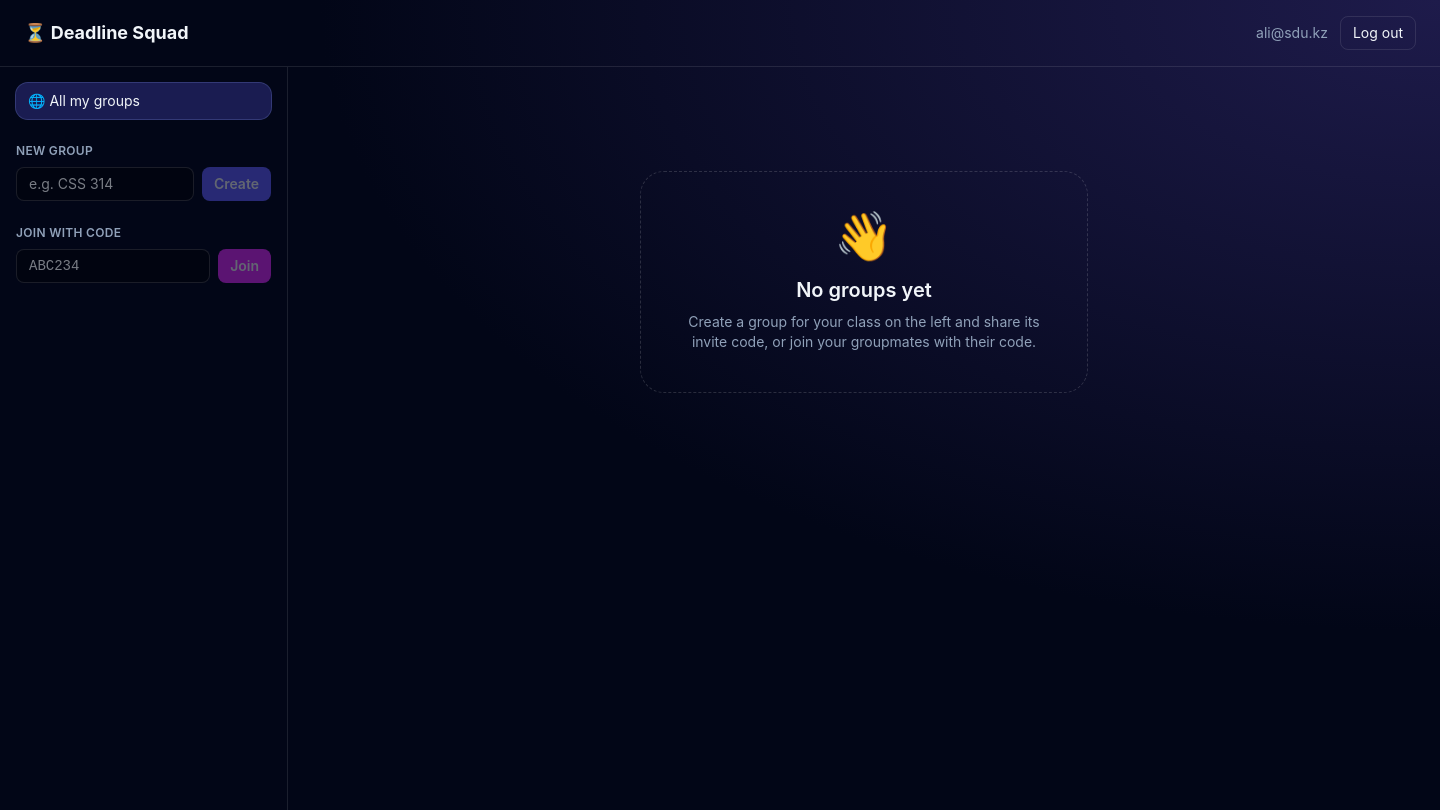
creating a group adds it to the sidebar and selects it
The image size is (1440, 810).
Expected: the heading "No groups yet" is shown, top-left (796, 278), bottom-right (932, 302)
Expected: the button "Create" is disabled, top-left (202, 167), bottom-right (271, 201)
Type "CSS 314" into the field labelled "New group". click: (105, 184)
box: top-left (16, 167), bottom-right (194, 201)
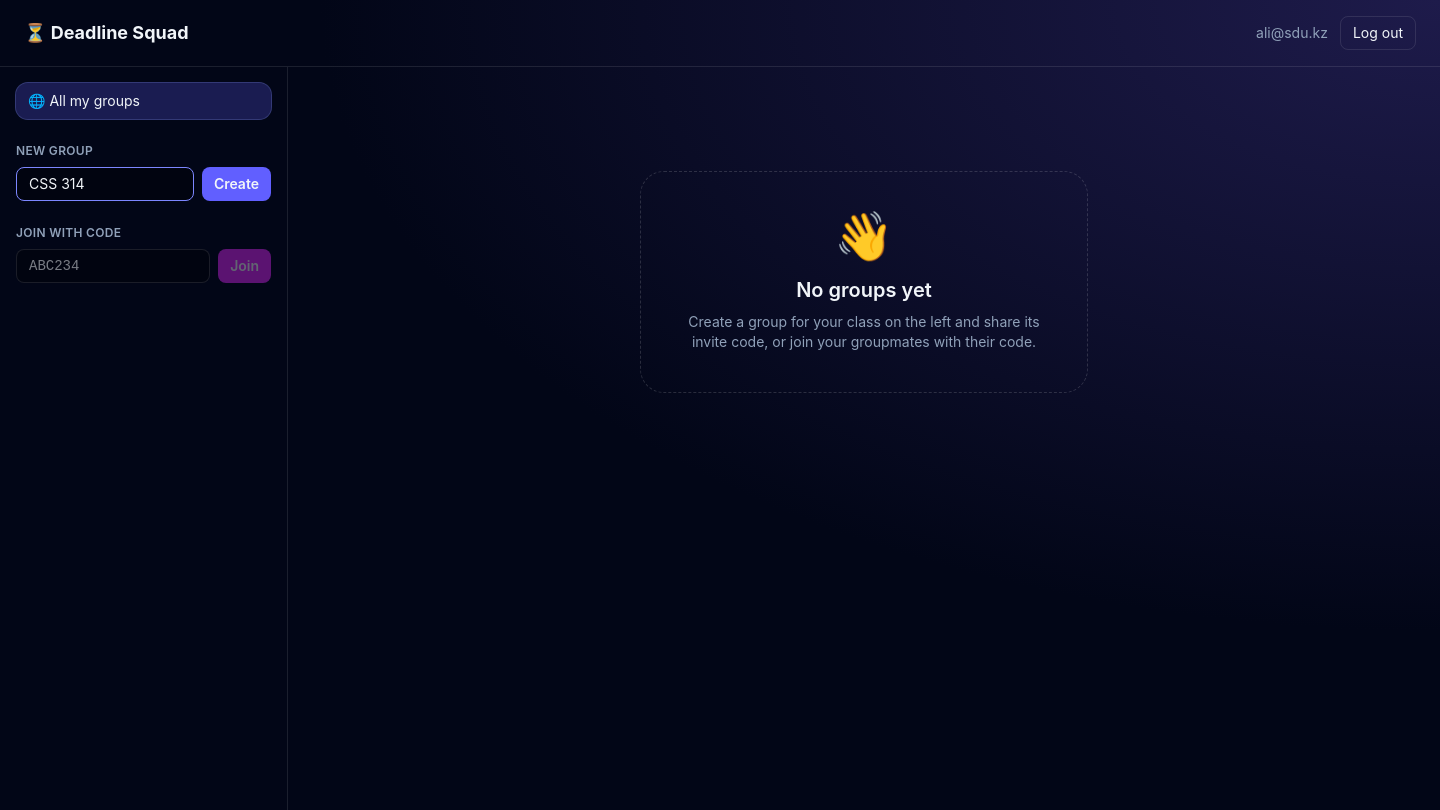
Click the button "Create". click: (236, 184)
box: top-left (202, 167), bottom-right (271, 201)
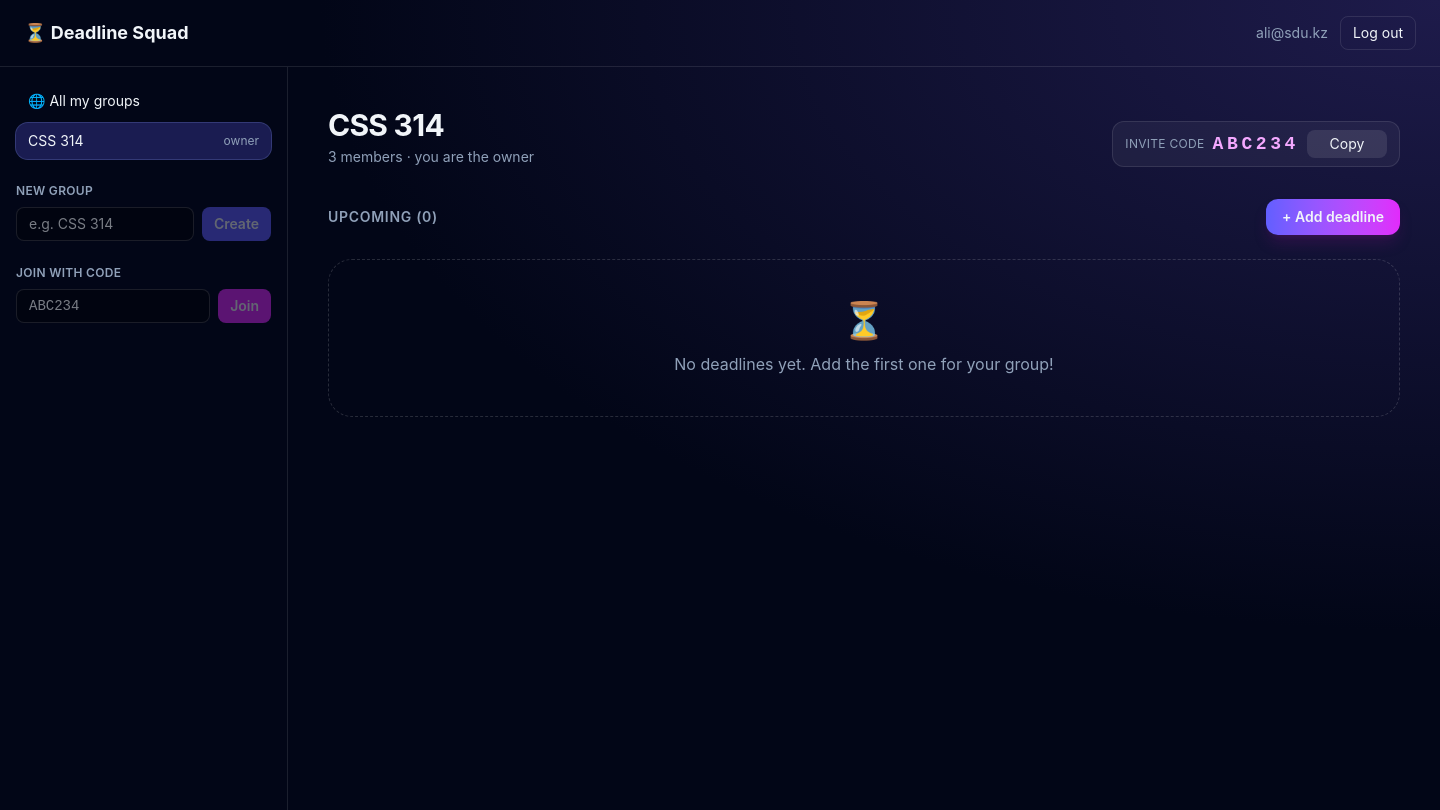
Expected: the text "CSS 314" is shown, top-left (28, 131), bottom-right (84, 151)
Expected: the heading "CSS 314" is shown, top-left (328, 107), bottom-right (444, 143)
